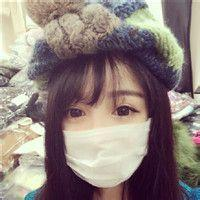face_mask: (63, 66, 149, 186)
